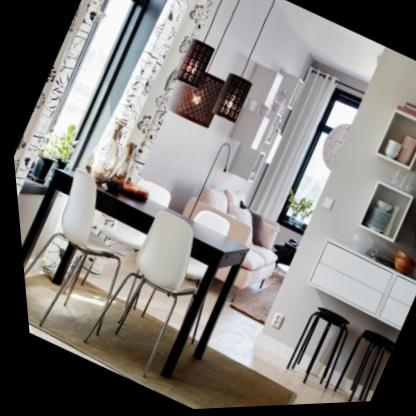Chair: (65, 197, 243, 393), (11, 156, 164, 354)
